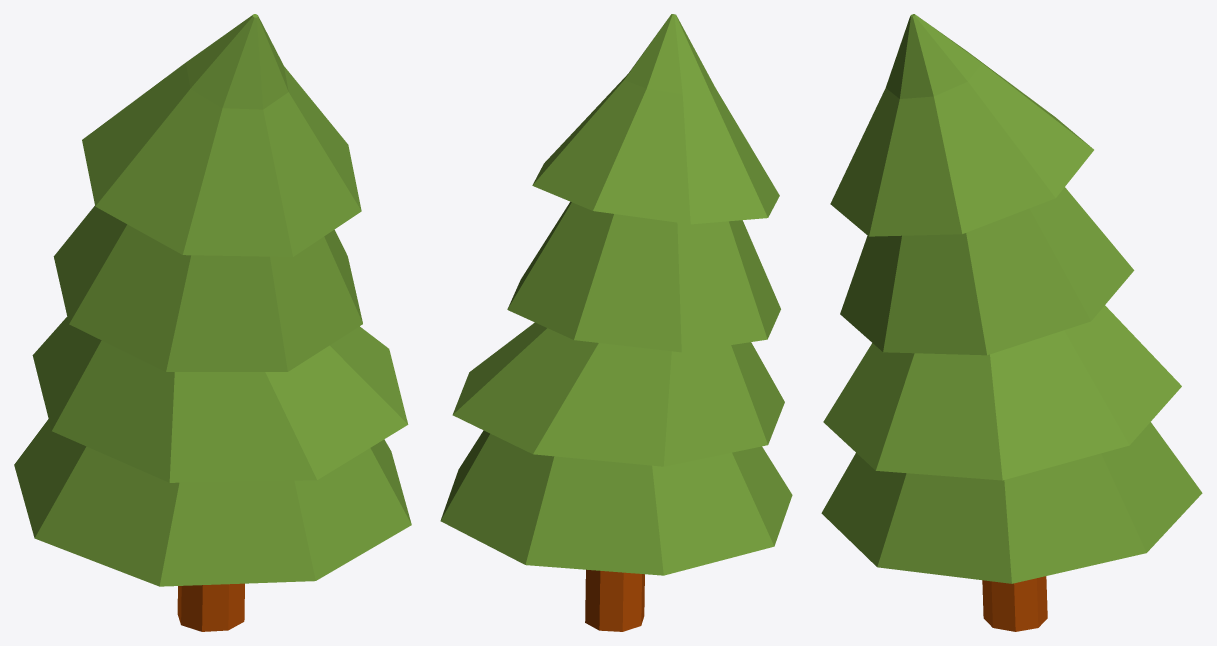
The picture shows the model from 3 angles, left to right: view 1: azimuth 30°, elevation 25°; view 2: azimuth 150°, elevation 25°; view 3: azimuth 270°, elevation 25°; orthographic projection. The views are drawn at different scales.
Visible parts, largest first — view 1: Low poly tree; view 2: Low poly tree; view 3: Low poly tree.
Boxes of the visible parts, x1,y1,x2,y2 form: Low poly tree: [14, 14, 411, 631]; Low poly tree: [440, 14, 792, 631]; Low poly tree: [821, 14, 1202, 631].
Bounding box in the file's own units: 3.21 × 5.56 × 3.21.
1 material, 1 textured.
